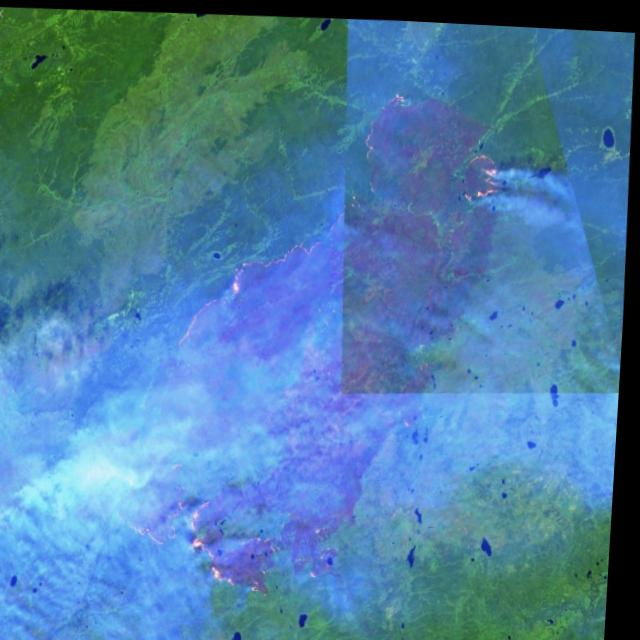fire: (104, 444, 280, 598), (455, 136, 508, 206)
